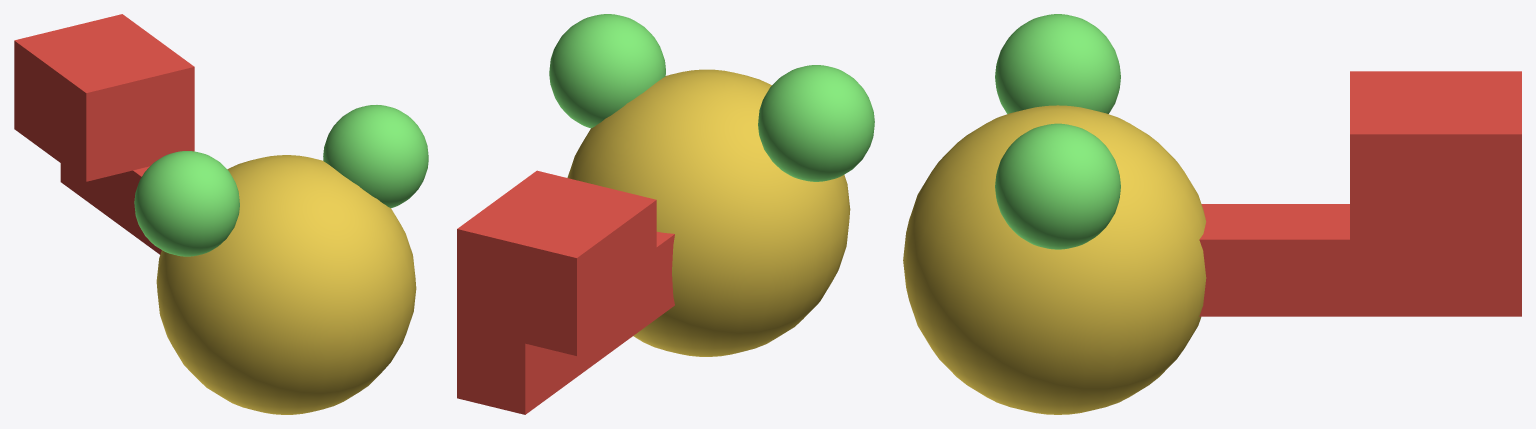
The model's file is minimickey.glb.
3 renders of one model, left to right at view 1: azimuth 30°, elevation 25°; view 2: azimuth 150°, elevation 25°; view 3: azimuth 270°, elevation 25°, orthographic. The views are drawn at different scales.
Visible parts, largest first — view 1: minimickey; view 2: minimickey; view 3: minimickey.
Part boxes in pixels (left/top/right/bottom): minimickey: left=14, top=14, right=428, bottom=414; minimickey: left=457, top=14, right=874, bottom=414; minimickey: left=903, top=14, right=1521, bottom=414.
Bounding box in the file's own units: 0.3693 × 0.3415 × 0.5927.
